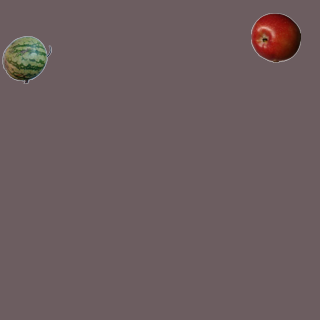Apple Braeburn: (250, 12, 300, 62)
Watermelon: (1, 34, 51, 84)
